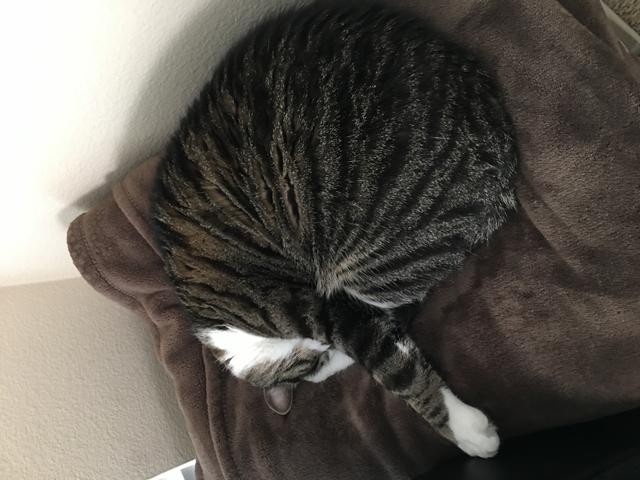playdoh: (149, 6, 521, 463)
